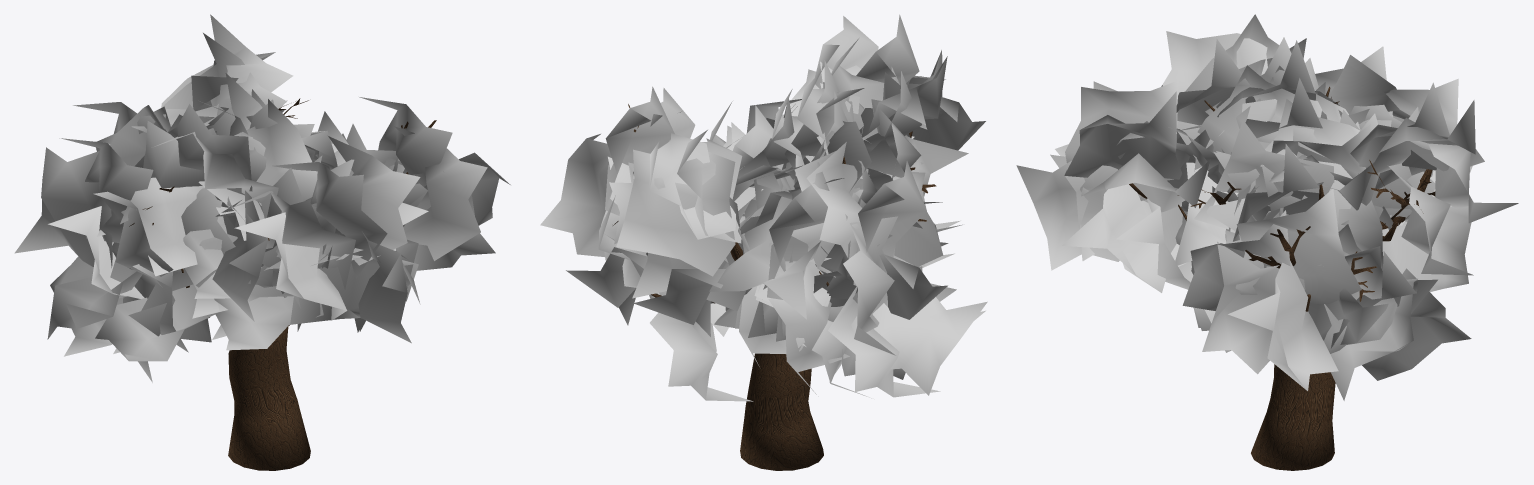
The model's file is PinkTree3 (1).fbx.
3 views of the same model, side by side, from view 1: azimuth 30°, elevation 25°; view 2: azimuth 150°, elevation 25°; view 3: azimuth 270°, elevation 25° (orthographic).
Parts seen in each view (by area): view 1: Tree3, Tree3|Leaves|Dupli|69, Tree3|Leaves|Dupli|118, Tree3|Leaves|Dupli|30, Tree3|Leaves|Dupli|84, Tree3|Leaves|Dupli|31, Tree3|Leaves|Dupli|74, Tree3|Leaves|Dupli|81, Tree3|Leaves|Dupli|88, Tree3|Leaves|Dupli|68, Tree3|Leaves|Dupli|105, Tree3|Leaves|Dupli|95 (+30 smaller); view 2: Tree3, Tree3|Leaves|Dupli|18, Tree3|Leaves|Dupli|68, Tree3|Leaves|Dupli|108, Tree3|Leaves|Dupli|17, Tree3|Leaves|Dupli|119, Tree3|Leaves|Dupli|69, Tree3|Leaves|Dupli|15, Tree3|Leaves|Dupli|63, Tree3|Leaves|Dupli|39, Tree3|Leaves|Dupli|105, Tree3|Leaves|Dupli|66 (+39 smaller); view 3: Tree3, Tree3|Leaves|Dupli|105, Tree3|Leaves|Dupli|108, Tree3|Leaves|Dupli|81, Tree3|Leaves|Dupli|106, Tree3|Leaves|Dupli|87, Tree3|Leaves|Dupli|86, Tree3|Leaves|Dupli|53, Tree3|Leaves|Dupli|50, Tree3|Leaves|Dupli|119, Tree3|Leaves|Dupli|118, Tree3|Leaves|Dupli|84 (+37 smaller).
Part boxes in pixels (bbox=[...]): Tree3: bbox=[129, 98, 436, 470]; Tree3|Leaves|Dupli|69: bbox=[14, 147, 112, 267]; Tree3|Leaves|Dupli|118: bbox=[394, 126, 487, 260]; Tree3|Leaves|Dupli|30: bbox=[130, 177, 224, 276]; Tree3|Leaves|Dupli|84: bbox=[272, 162, 387, 278]; Tree3|Leaves|Dupli|31: bbox=[198, 99, 317, 240]; Tree3|Leaves|Dupli|74: bbox=[95, 284, 217, 361]; Tree3|Leaves|Dupli|81: bbox=[328, 136, 420, 265]; Tree3|Leaves|Dupli|88: bbox=[234, 212, 347, 320]; Tree3|Leaves|Dupli|68: bbox=[47, 259, 142, 339]; Tree3|Leaves|Dupli|105: bbox=[359, 97, 452, 209]; Tree3|Leaves|Dupli|95: bbox=[214, 296, 323, 350]; Tree3: bbox=[613, 104, 936, 470]; Tree3|Leaves|Dupli|18: bbox=[616, 149, 735, 276]; Tree3|Leaves|Dupli|68: bbox=[851, 297, 987, 395]; Tree3|Leaves|Dupli|108: bbox=[540, 134, 611, 256]; Tree3|Leaves|Dupli|17: bbox=[709, 188, 820, 319]; Tree3|Leaves|Dupli|119: bbox=[650, 312, 753, 401]; Tree3|Leaves|Dupli|69: bbox=[843, 216, 897, 355]; Tree3|Leaves|Dupli|15: bbox=[649, 133, 763, 239]; Tree3|Leaves|Dupli|63: bbox=[828, 286, 940, 397]; Tree3|Leaves|Dupli|39: bbox=[806, 142, 868, 258]; Tree3|Leaves|Dupli|105: bbox=[605, 86, 674, 215]; Tree3|Leaves|Dupli|66: bbox=[853, 161, 926, 285]; Tree3: bbox=[1129, 86, 1435, 470]; Tree3|Leaves|Dupli|105: bbox=[1235, 189, 1361, 303]; Tree3|Leaves|Dupli|108: bbox=[1228, 260, 1338, 390]; Tree3|Leaves|Dupli|81: bbox=[1064, 91, 1182, 179]; Tree3|Leaves|Dupli|106: bbox=[1202, 241, 1305, 374]; Tree3|Leaves|Dupli|87: bbox=[1016, 160, 1119, 270]; Tree3|Leaves|Dupli|86: bbox=[1062, 184, 1186, 292]; Tree3|Leaves|Dupli|53: bbox=[1382, 206, 1471, 291]; Tree3|Leaves|Dupli|50: bbox=[1194, 120, 1334, 232]; Tree3|Leaves|Dupli|119: bbox=[1362, 268, 1471, 380]; Tree3|Leaves|Dupli|118: bbox=[1182, 210, 1290, 310]; Tree3|Leaves|Dupli|84: bbox=[1065, 80, 1178, 180].
Bounding box in the file's own units: 1747 × 1507 × 1739.
